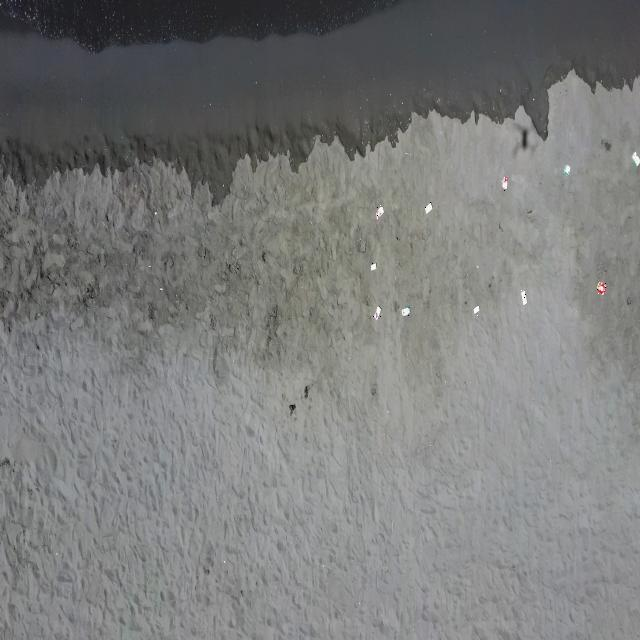Garbage: (595, 280, 606, 295), (375, 204, 383, 220), (632, 151, 639, 166), (424, 201, 432, 213), (520, 289, 526, 304), (373, 307, 380, 319), (400, 307, 409, 316), (563, 163, 569, 175), (503, 176, 507, 190), (369, 261, 375, 270), (472, 307, 479, 313), (148, 264, 151, 267), (154, 211, 156, 215), (475, 264, 477, 267), (160, 287, 162, 289)
